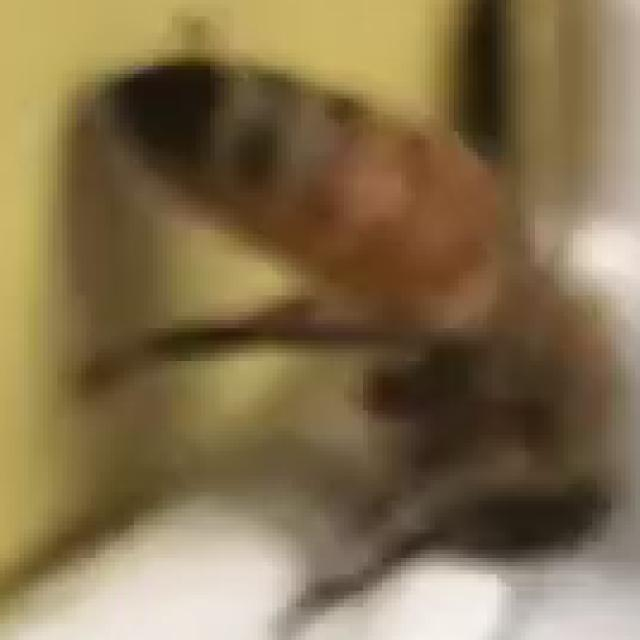honeybee: (98, 39, 640, 611)
